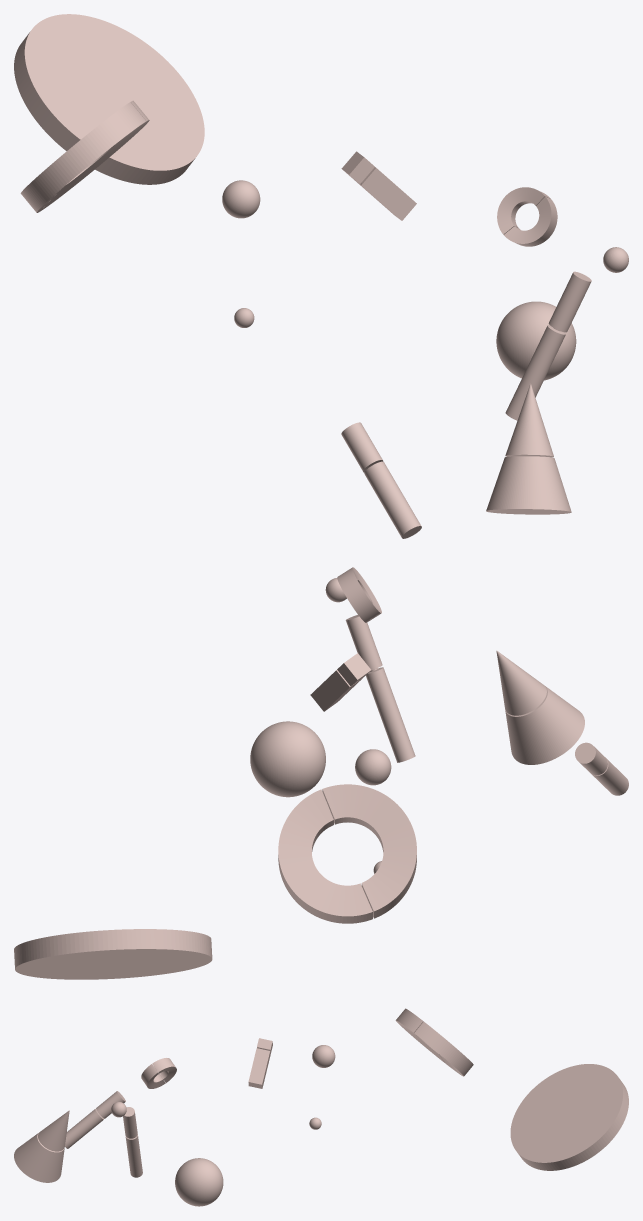
The model's file is floating_shapes4.glb.
3 views of the same model, one above another, from view 1: azimuth 30°, elevation 25°; view 2: azimuth 150°, elevation 25°; view 3: azimuth 270°, elevation 25° (orthographic). The views are drawn at different scales.
Visible parts, largest first — view 1: Cylinder.002, Cylinder.007, Cylinder.006, Sphere.001, Cylinder.003, Cylinder.005, Cylinder.009, Cube.002, Sphere.003; view 2: Cylinder.006, Cylinder.002, Cylinder.007, Sphere.001, Cylinder.003, Cube.002, Cylinder.005, Cylinder.009, Sphere.003; view 3: Cylinder.002, Cylinder.007, Sphere.001, Cylinder.006, Cylinder.005, Cylinder.003, Cube.002, Cylinder.009, Sphere.003.
Boxes of the visible parts, bbox=[...] form: Cylinder.002: bbox=[14, 14, 204, 184]; Cylinder.007: bbox=[486, 383, 571, 514]; Cylinder.006: bbox=[20, 100, 149, 212]; Sphere.001: bbox=[496, 301, 576, 380]; Cylinder.003: bbox=[505, 271, 591, 420]; Cylinder.005: bbox=[341, 422, 421, 538]; Cylinder.009: bbox=[497, 187, 557, 246]; Cube.002: bbox=[341, 151, 416, 220]; Sphere.003: bbox=[222, 180, 260, 218]; Cylinder.006: bbox=[278, 784, 416, 923]; Cylinder.002: bbox=[14, 929, 212, 979]; Cylinder.007: bbox=[496, 650, 584, 764]; Sphere.001: bbox=[250, 721, 325, 797]; Cylinder.003: bbox=[345, 615, 415, 762]; Cube.002: bbox=[310, 653, 370, 711]; Cylinder.005: bbox=[575, 742, 628, 795]; Cylinder.009: bbox=[337, 567, 381, 622]; Sphere.003: bbox=[355, 749, 391, 785]; Cylinder.002: bbox=[510, 1064, 628, 1170]; Cylinder.007: bbox=[14, 1110, 69, 1182]; Sphere.001: bbox=[175, 1158, 223, 1206]; Cylinder.006: bbox=[395, 1008, 473, 1076]; Cylinder.005: bbox=[65, 1091, 125, 1148]; Cylinder.003: bbox=[123, 1107, 142, 1177]; Cube.002: bbox=[248, 1038, 272, 1088]; Cylinder.009: bbox=[141, 1058, 176, 1088]; Sphere.003: bbox=[312, 1045, 335, 1067].
Size of the model in its own units: 140 by 92.41 by 347.
